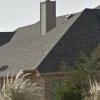Chimney: (33, 0, 73, 41)
